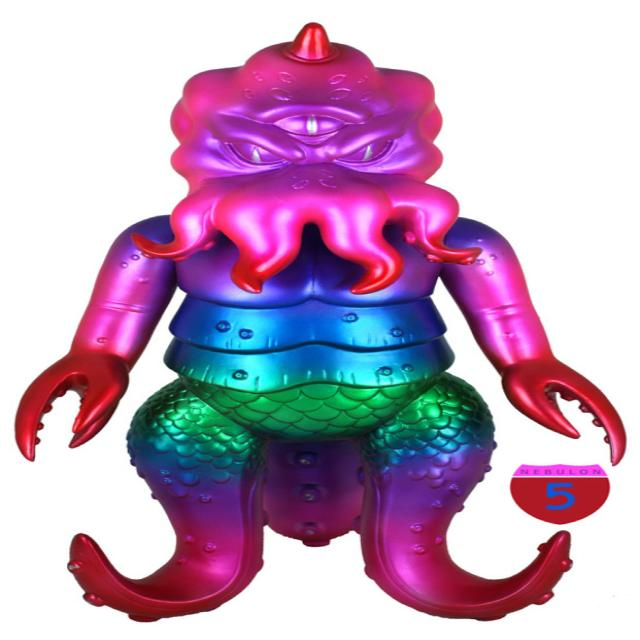Toy: (14, 22, 626, 623)
